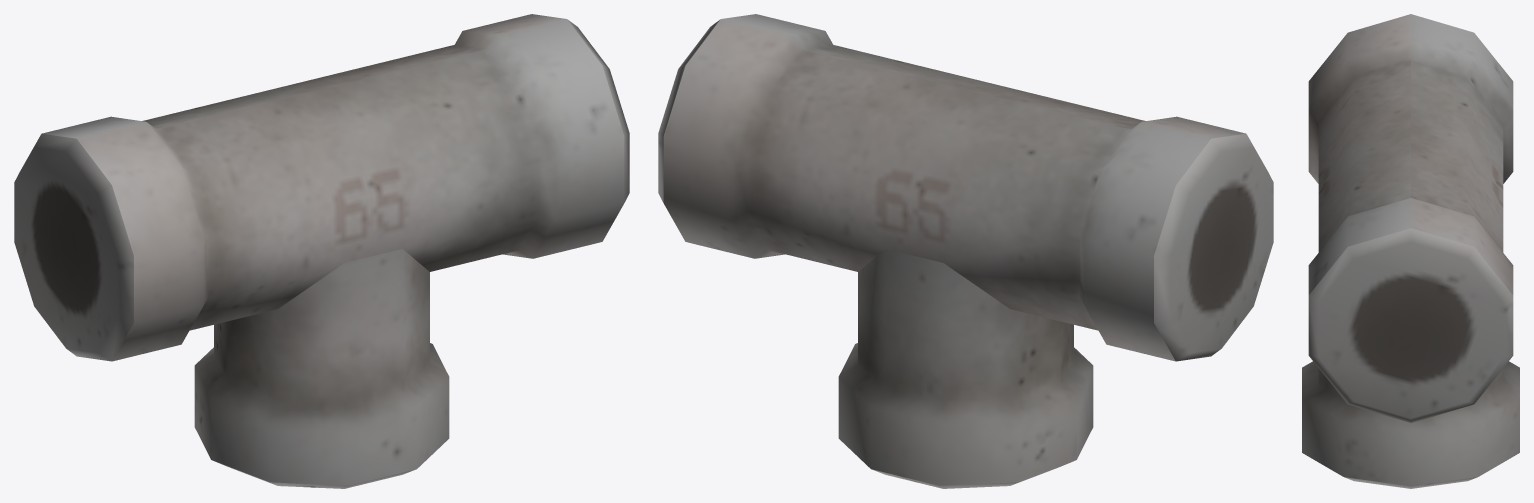
The model's file is SteelPipe_12a_snaps011.fbx.
3 renders of one model, left to right at view 1: azimuth 30°, elevation 25°; view 2: azimuth 150°, elevation 25°; view 3: azimuth 270°, elevation 25°, orthographic. The views are drawn at different scales.
Visible parts, largest first — view 1: SteelPipe_12a_snaps011_LOD0; view 2: SteelPipe_12a_snaps011_LOD0; view 3: SteelPipe_12a_snaps011_LOD0.
Boxes of the visible parts, box(x1,y1,x2,y2) form: SteelPipe_12a_snaps011_LOD0: box(14, 14, 629, 488); SteelPipe_12a_snaps011_LOD0: box(658, 14, 1273, 488); SteelPipe_12a_snaps011_LOD0: box(1302, 14, 1519, 488).
Size of what is drawn, in the model's own units: 19.07 by 13 by 7.85.
